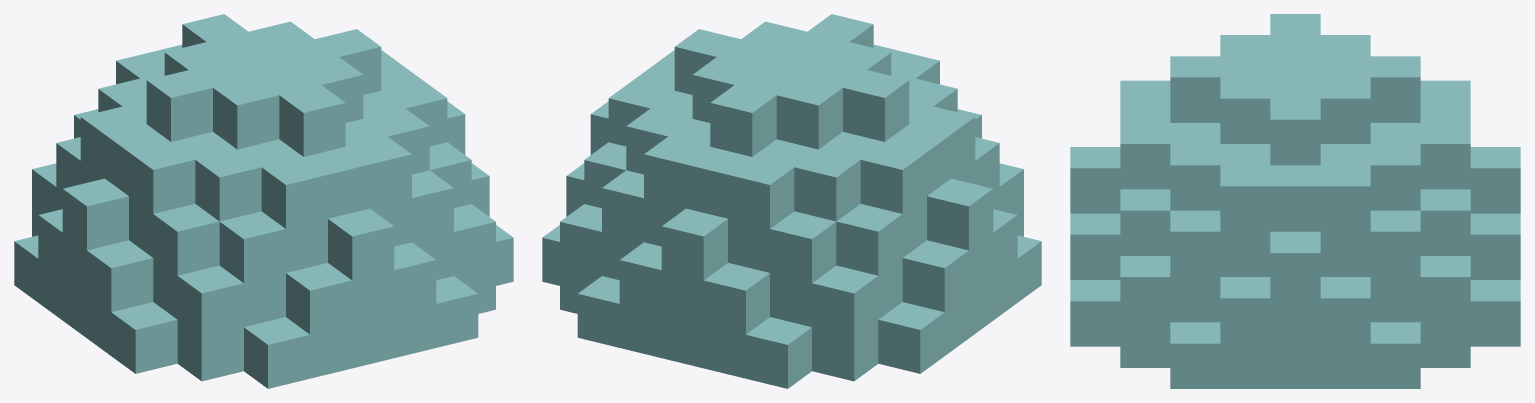
The model's file is Light00-Glass.gltf.
The picture shows the model from 3 angles, left to right: view 1: azimuth 30°, elevation 25°; view 2: azimuth 150°, elevation 25°; view 3: azimuth 270°, elevation 25°; orthographic projection. The views are drawn at different scales.
Parts seen in each view (by area): view 1: Layer.1; view 2: Layer.1; view 3: Layer.1.
Part boxes in pixels (x1=…): Layer.1: x1=14, y1=14, x2=513, y2=388; Layer.1: x1=542, y1=14, x2=1041, y2=388; Layer.1: x1=1070, y1=14, x2=1520, y2=388.
Bounding box in the file's own units: 9 × 5 × 9.
